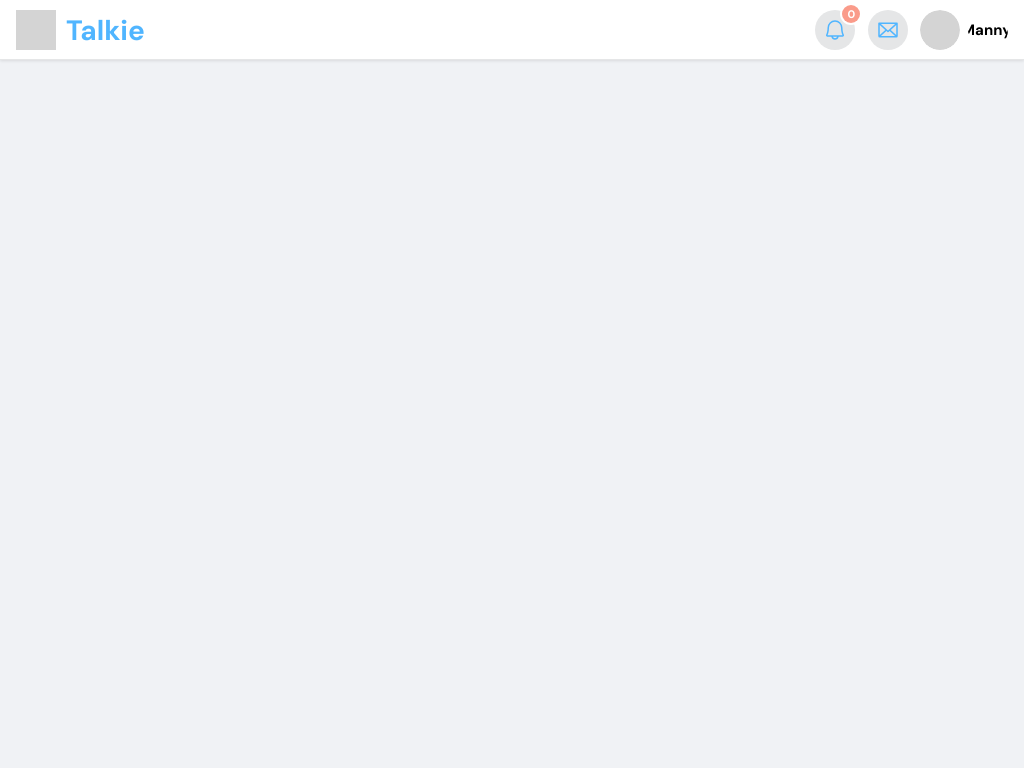
Test case: Header › body › should display notification dropdown
Step 1. Click the list item with test id "notification-list-item" → [838, 30], box [816,10,860,50]
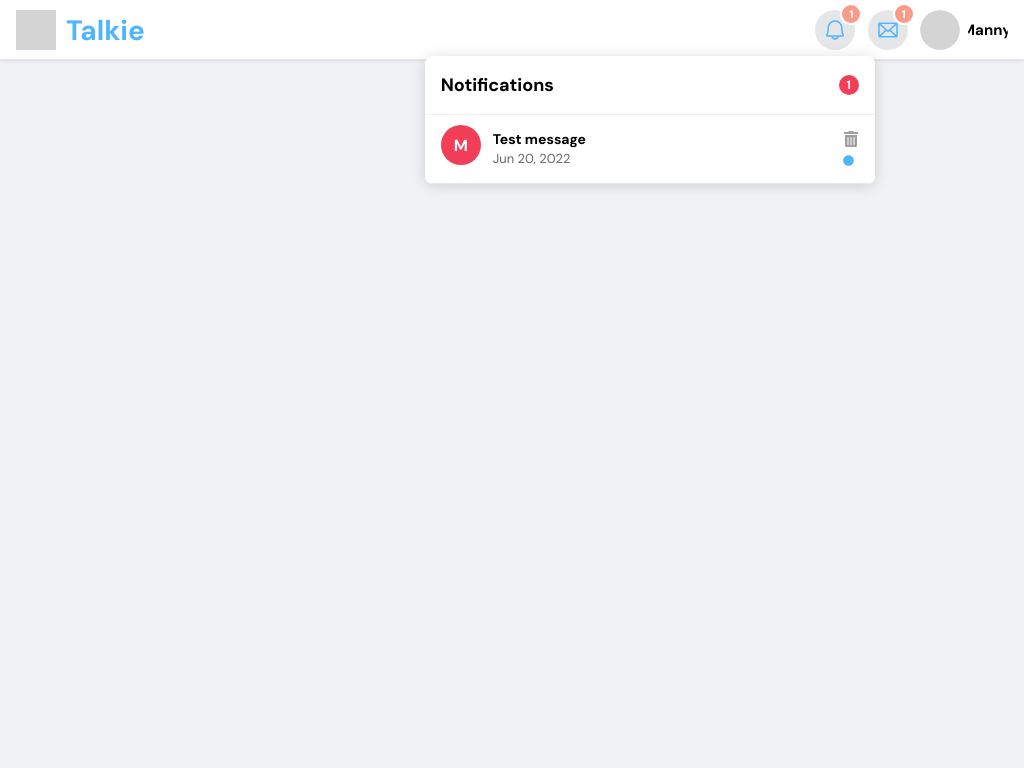
expect the text with test id "notification-dots" is shown: met, box [842,5,860,23]
expect the element with test id "dropdown" is shown: met, box [425,56,875,184]
expect the heading "Notifications 1" is shown: met, box [441,68,859,102]
